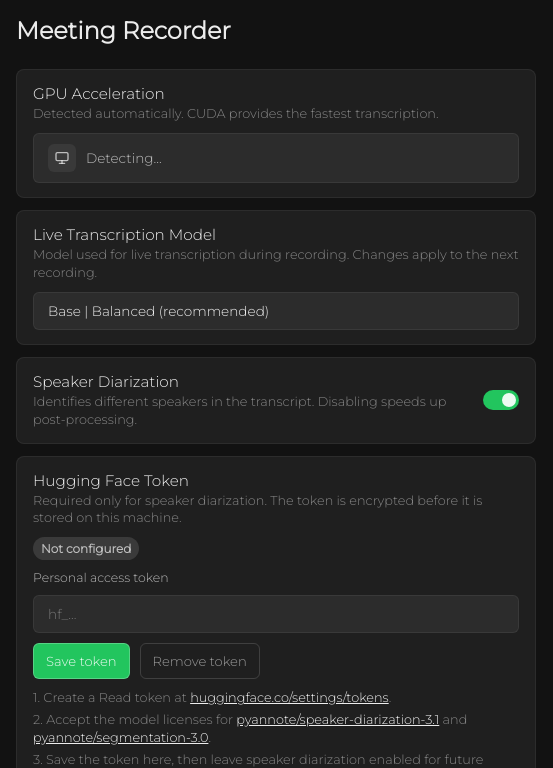
Test: MeetingRecorderSettings › saves and removes the Hugging Face token through the encrypted key API
This screenshot has width=553, height=768.
Type "hf_test_token" into the password field labelled "Personal access token" at (276, 614), box [33,595,519,633]
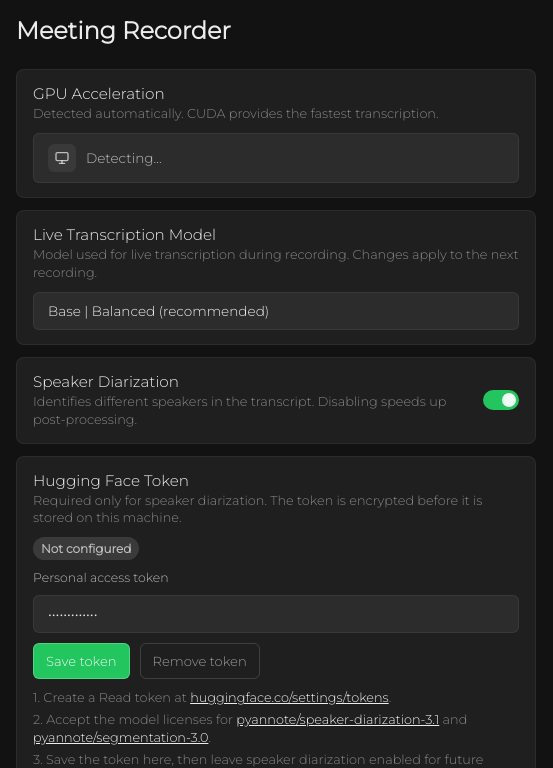
Click the button "Save token" at (81, 661), box [33,643,130,679]
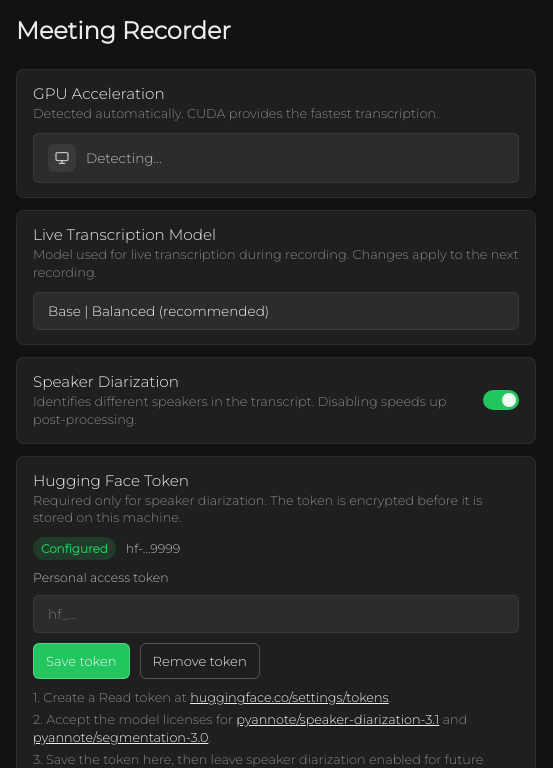
Result: the text "hf-...9999" is shown at [126,541,180,556]
Click the button "Remove token" at (200, 661), box [140,643,260,679]
(page scrolled)
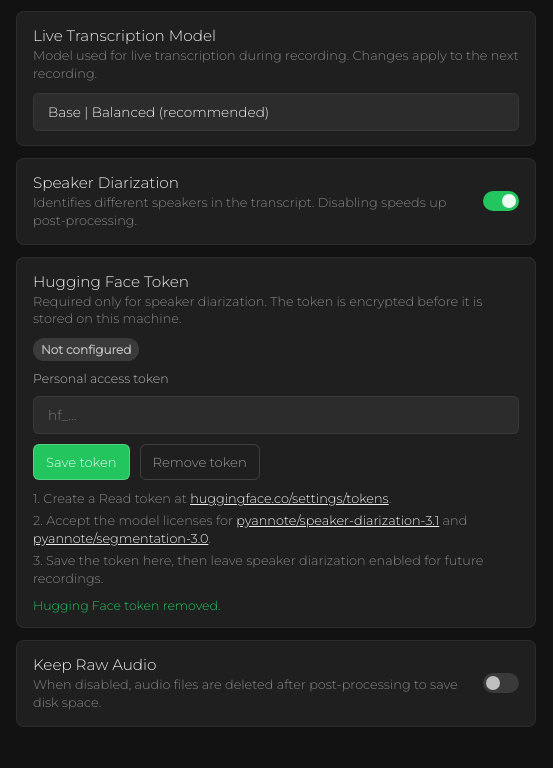
Result: the text "Hugging Face token removed." is shown at [33,598,220,613]
